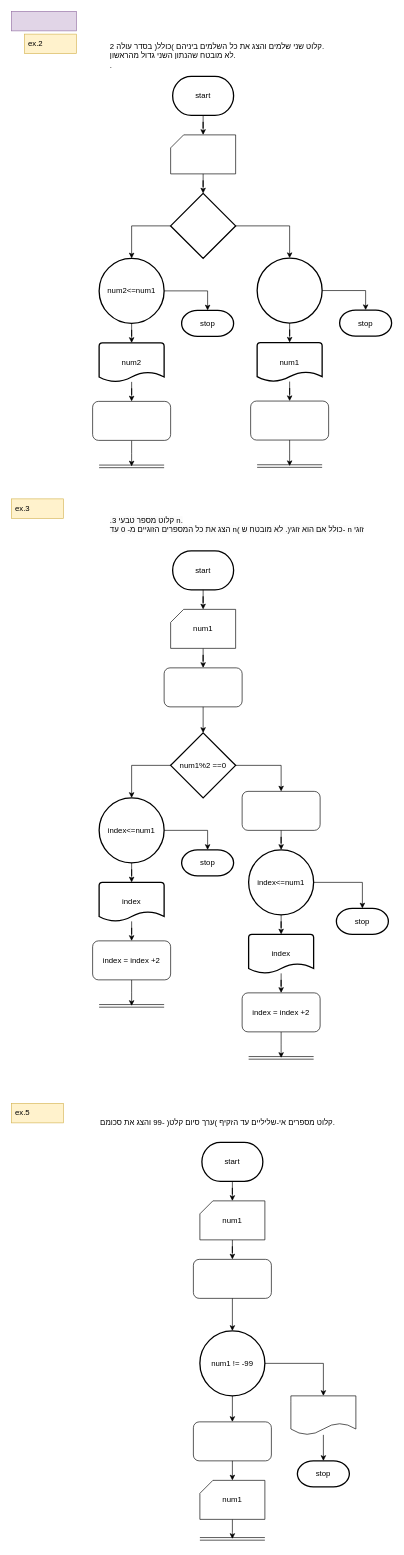
The diagram is 404 pixels wide and 1555 high, and some of its shapes have lost their labels. Here are the shapes that lost their labels. From the top down, the box of each, then its label:
(11, 11, 76, 31): page 27
(170, 134, 236, 174): num1, num2
(170, 192, 236, 259): num1>num2
(256, 257, 322, 323): num1<=num2
(92, 401, 171, 440): num2 = num2 + 1
(250, 400, 329, 440): num1= num1 + 1
(163, 667, 242, 707): index = 0
(241, 791, 320, 830): num1 = num1 - 1
(193, 1259, 271, 1298): sum= 0
(290, 1395, 356, 1435): sum
(193, 1421, 271, 1461): sum = sum + num1
